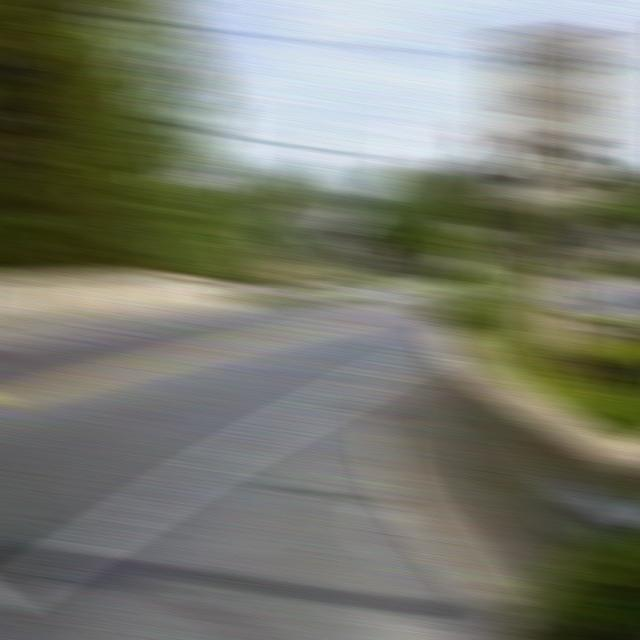speedLimit25: (488, 32, 610, 200)
